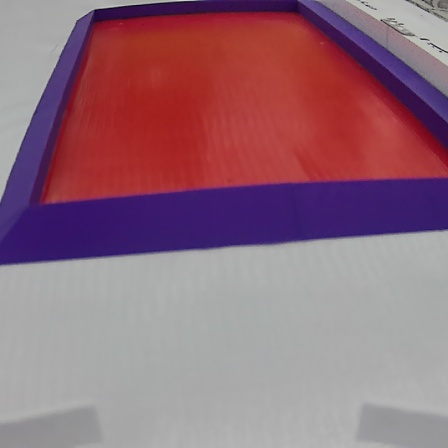red_aim: (2, 0, 448, 251)
